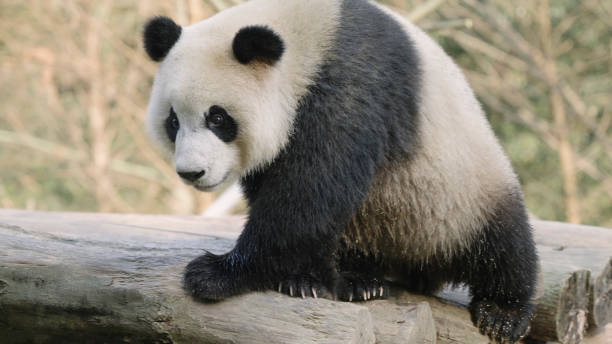panda: (111, 7, 341, 190)
